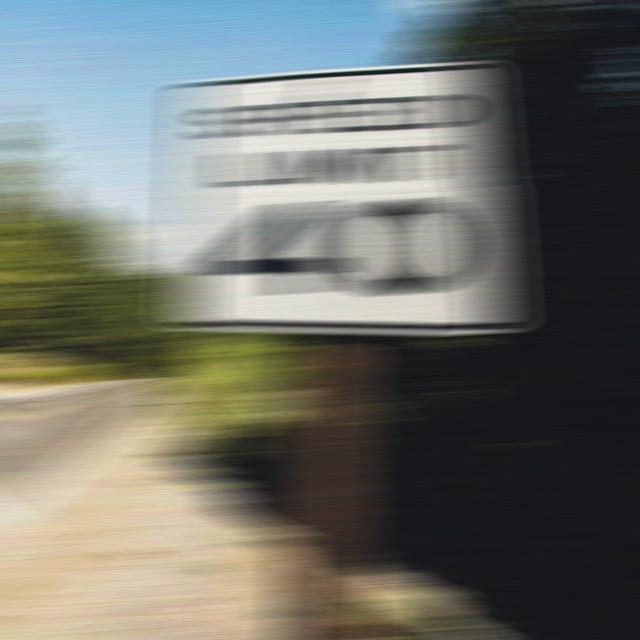speedLimit40: (181, 72, 506, 327)
